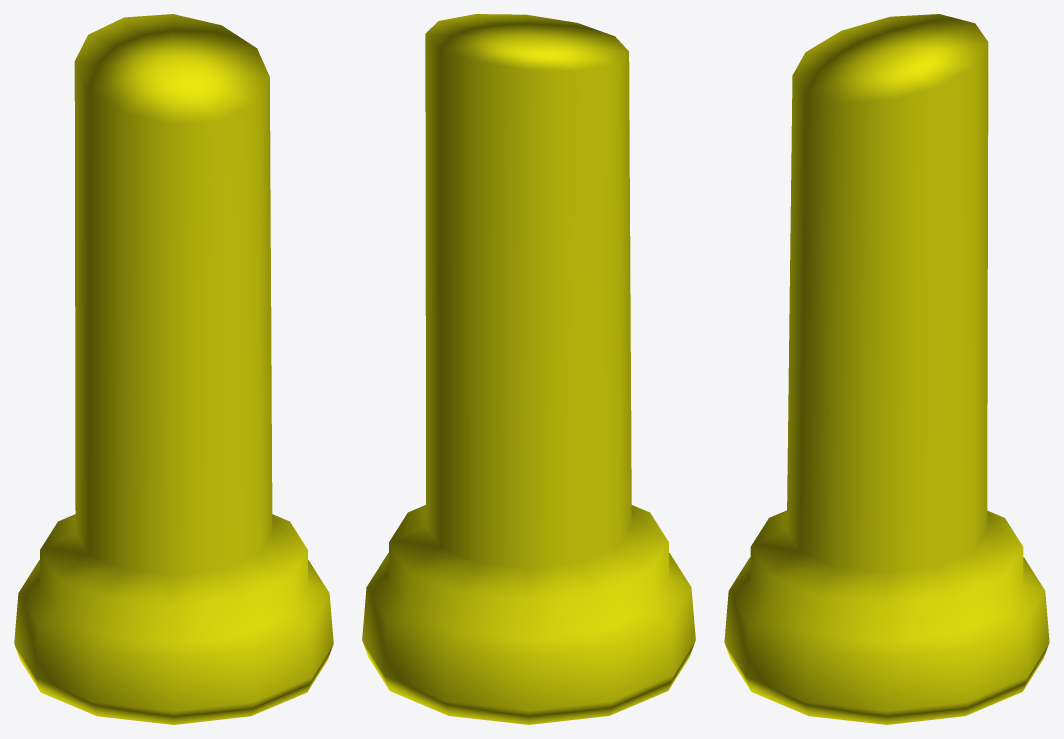
File: S_Pillar_01_Break.fbx
3 views of the same model, side by side, from view 1: azimuth 30°, elevation 25°; view 2: azimuth 150°, elevation 25°; view 3: azimuth 270°, elevation 25° (orthographic). The views are drawn at different scales.
Visible parts, largest first — view 1: S_Pillar_01_Break; view 2: S_Pillar_01_Break; view 3: S_Pillar_01_Break.
Boxes of the visible parts, box(x1,y1,x2,y2) form: S_Pillar_01_Break: box(14, 14, 333, 724); S_Pillar_01_Break: box(362, 14, 695, 724); S_Pillar_01_Break: box(724, 14, 1049, 724).
Size of the model in its own units: 42.98 by 89.94 by 42.98.
